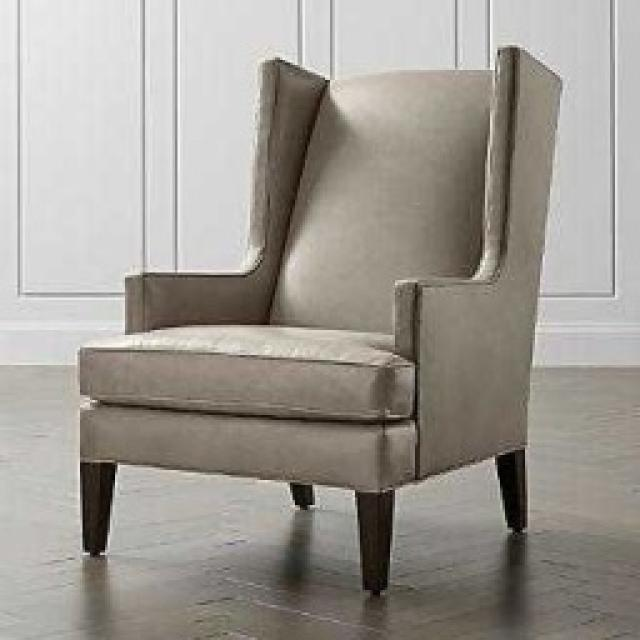sandalye: (75, 42, 563, 596)
